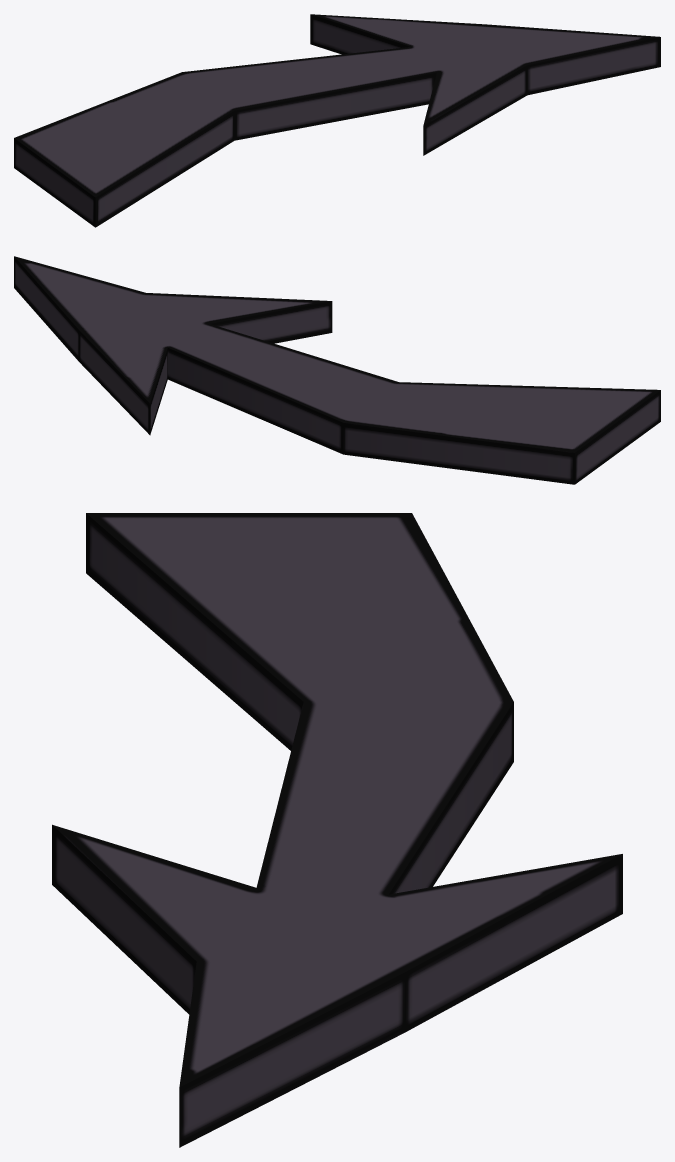
File: fleche.fbx
3 renders of one model, top to bottom at view 1: azimuth 30°, elevation 25°; view 2: azimuth 150°, elevation 25°; view 3: azimuth 270°, elevation 25°, orthographic. The views are drawn at different scales.
Parts seen in each view (by area): view 1: fleche; view 2: fleche; view 3: fleche.
Part boxes in pixels (x1,y1,x2,y2): fleche: [14, 14, 660, 227]; fleche: [14, 256, 660, 484]; fleche: [52, 513, 622, 1147].
Bounding box in the file's own units: 182 × 8.87 × 76.26.
